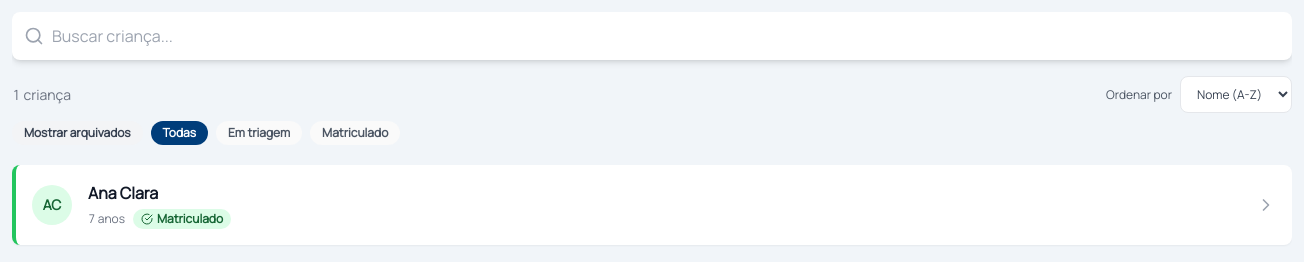
Scenario: ChildrenView mobile filters › reveals archived status filters only after enabling archived view
Expected: the button "Desistente" is not shown
Expected: the button "Inativo" is not shown
Click the button "Mostrar arquivados".
click(77, 133)  # box [12,121,143,145]
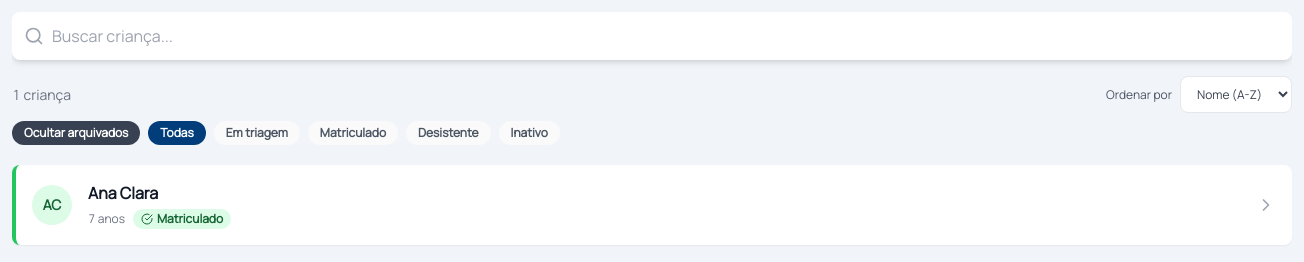
Expected: the button "Desistente" is shown, [406,121,491,145]
Expected: the button "Inativo" is shown, [499,121,560,145]
